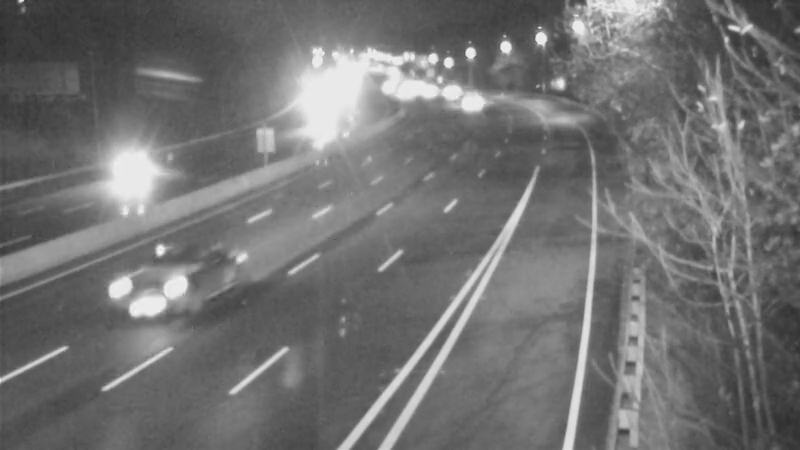vehicle: (82, 255, 192, 365), (74, 140, 154, 220), (440, 82, 490, 132)
